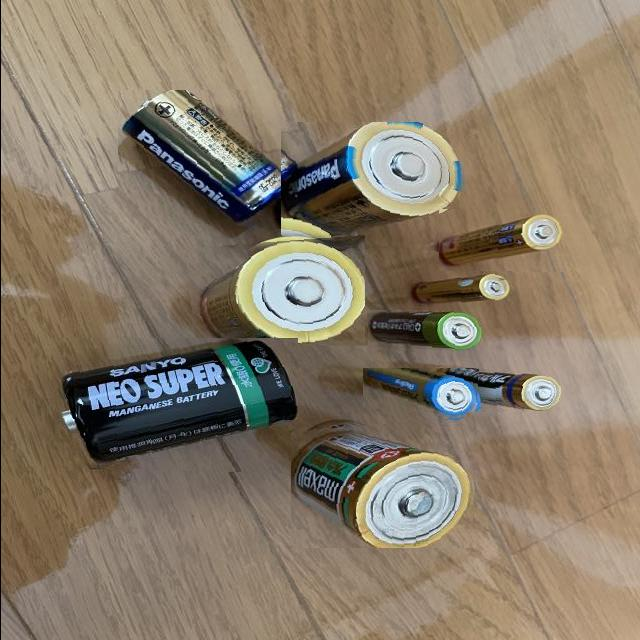Hazard: (49, 338, 297, 474), (117, 90, 304, 230), (290, 416, 478, 548), (280, 122, 467, 254), (184, 235, 364, 345), (438, 209, 569, 272), (434, 362, 561, 412), (362, 368, 478, 420), (366, 310, 487, 355), (407, 271, 511, 311)
